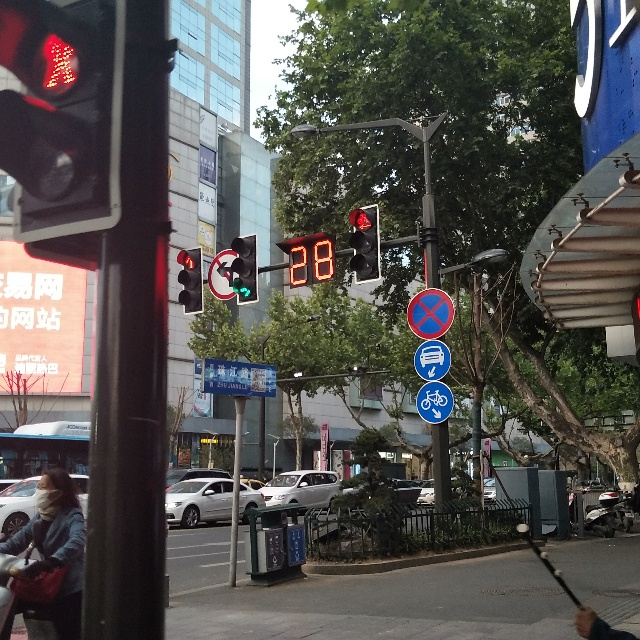stop: (403, 286, 462, 344)
